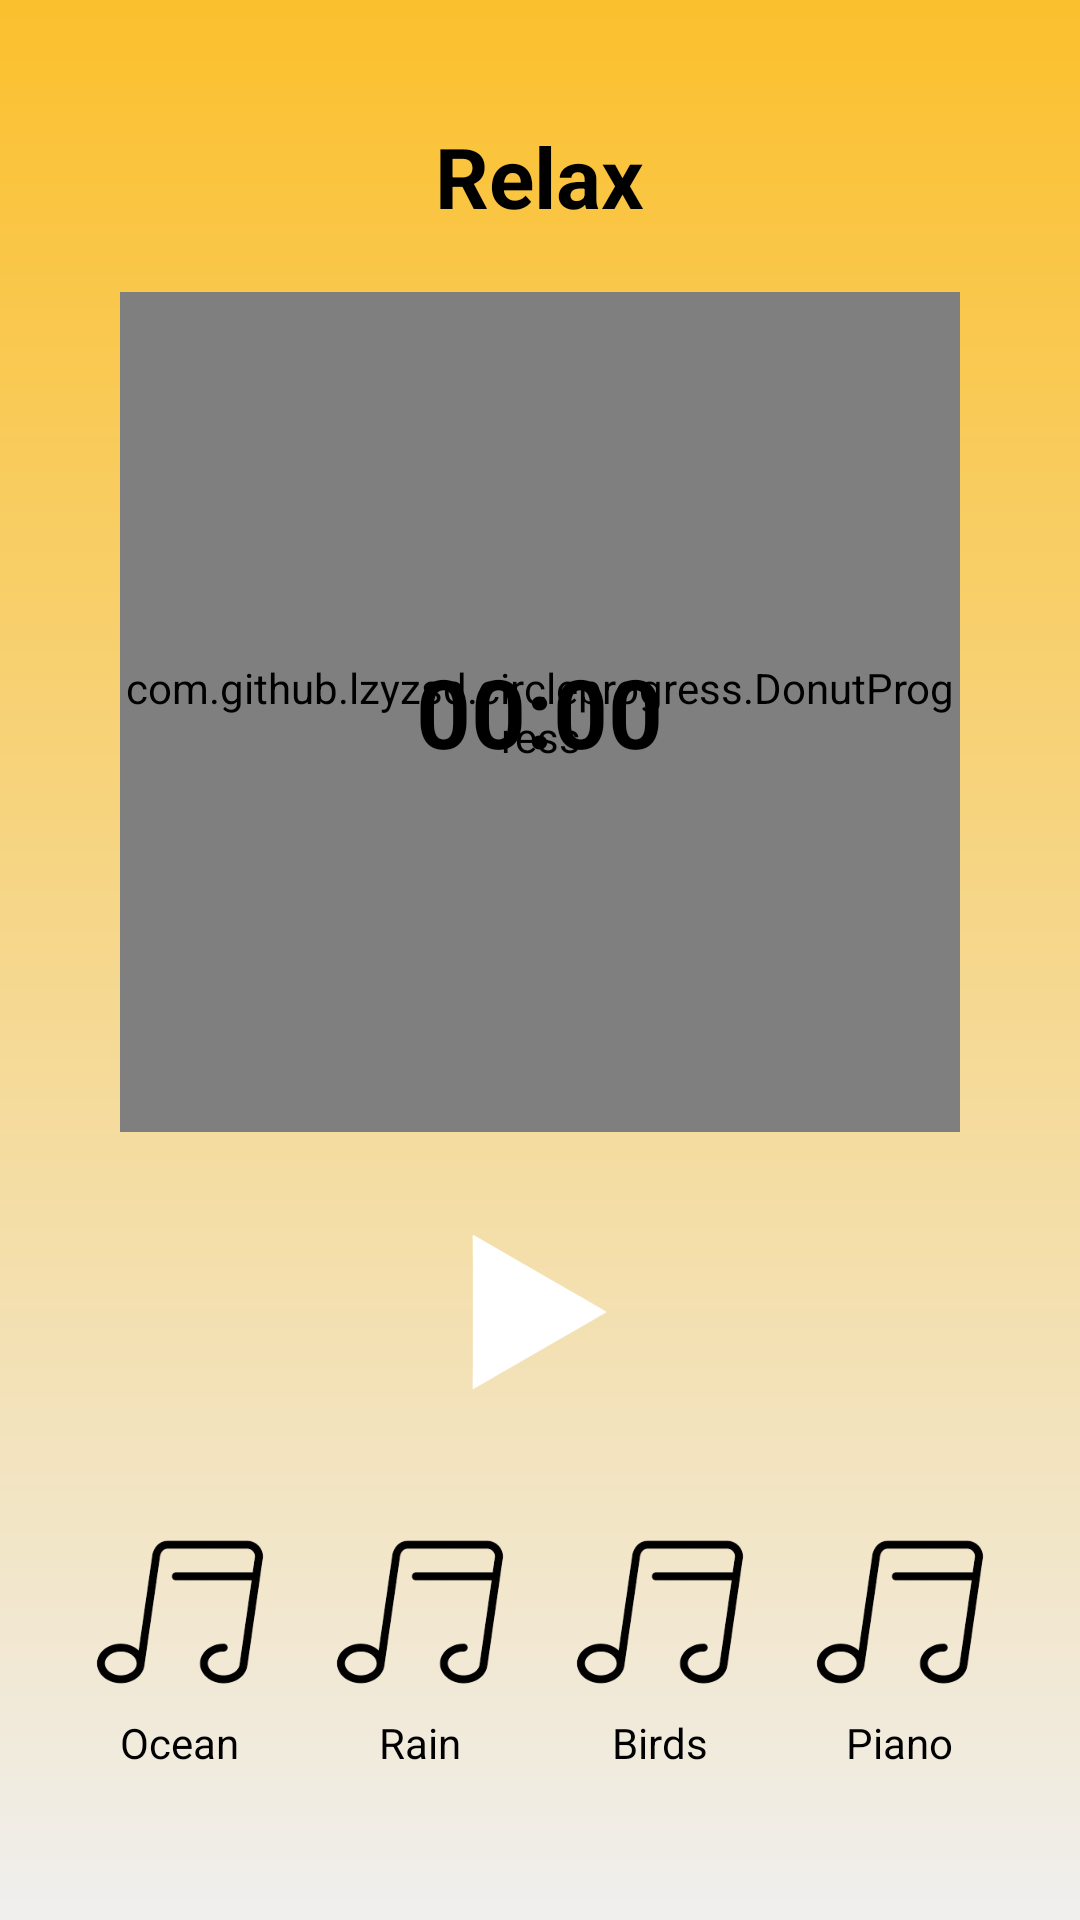

Icons on this 1080*1920 Android screen, each with its box as (x1, y1, x2, y2):
Play / Pause: (473, 1235, 606, 1389)
